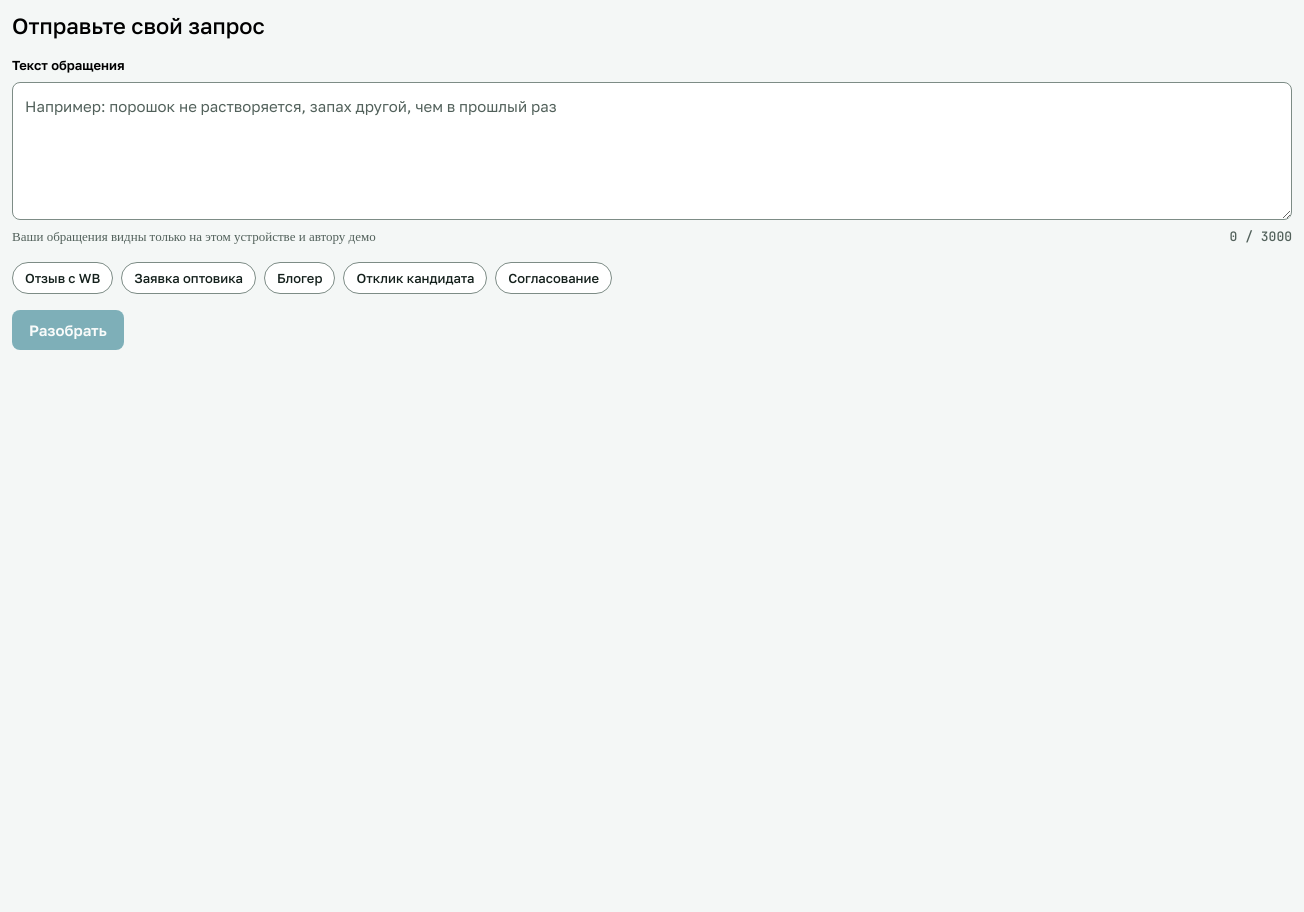
Triage › после сбоя связи «Повторить» заново разбирает тот же текст
Step 1. Click the button "Отзыв с WB" → click(63, 278), box [12,262,113,294]
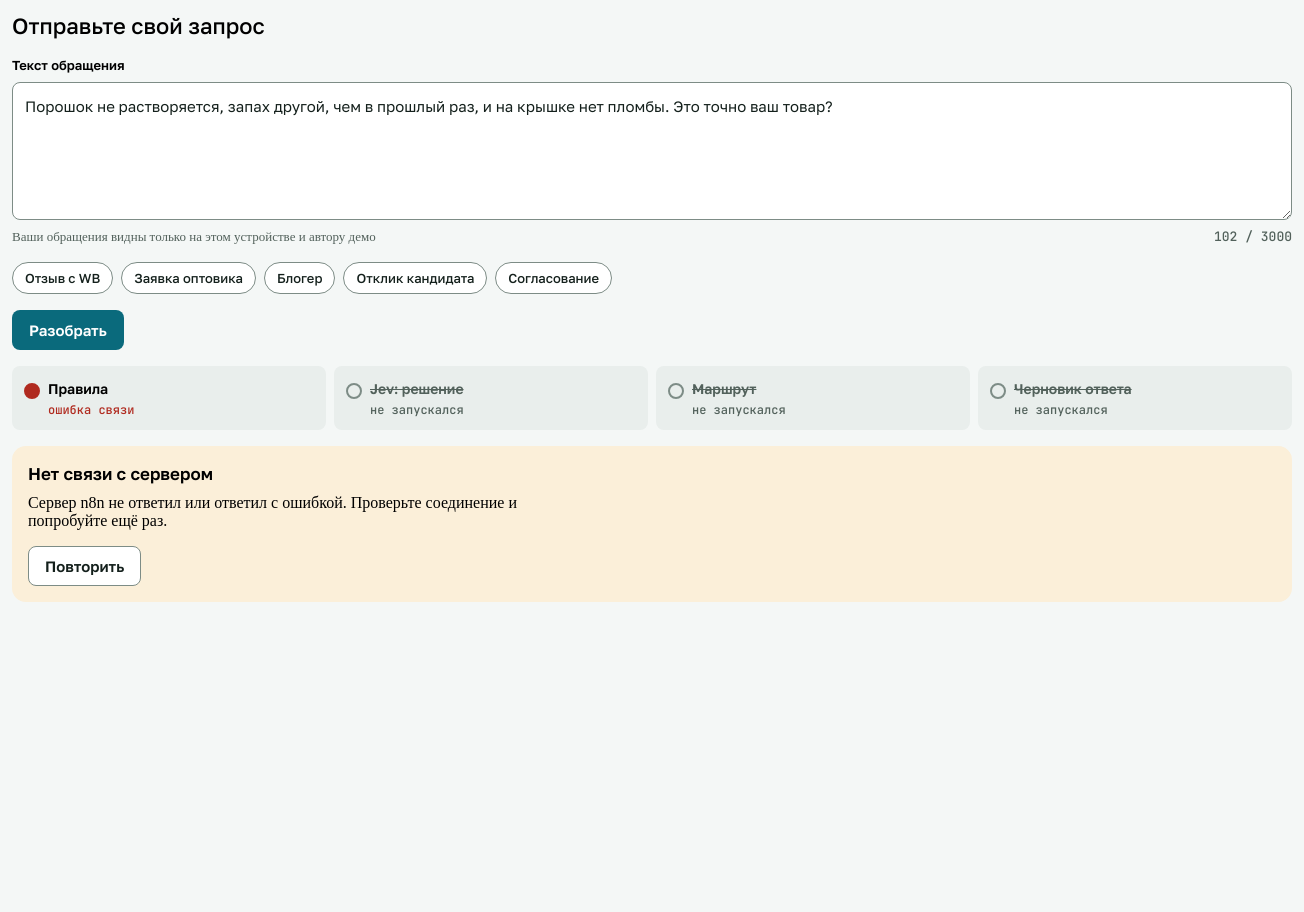
Step 2. Click the button "Повторить" → click(85, 566), box [28,546,141,586]
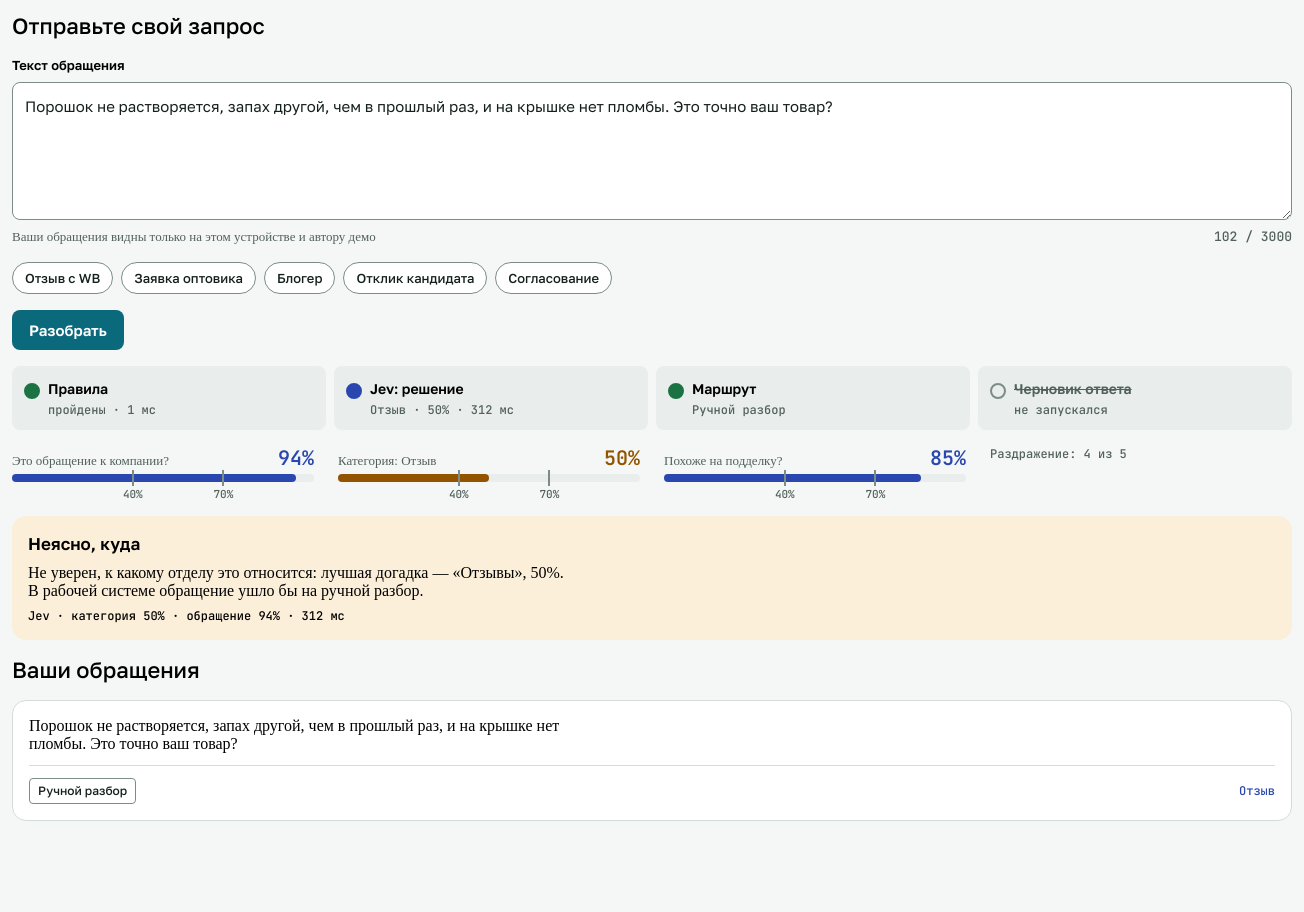
Result: the text "В рабочей системе обращение ушло бы на ручной разбор" is shown at [28,564,564,599]
